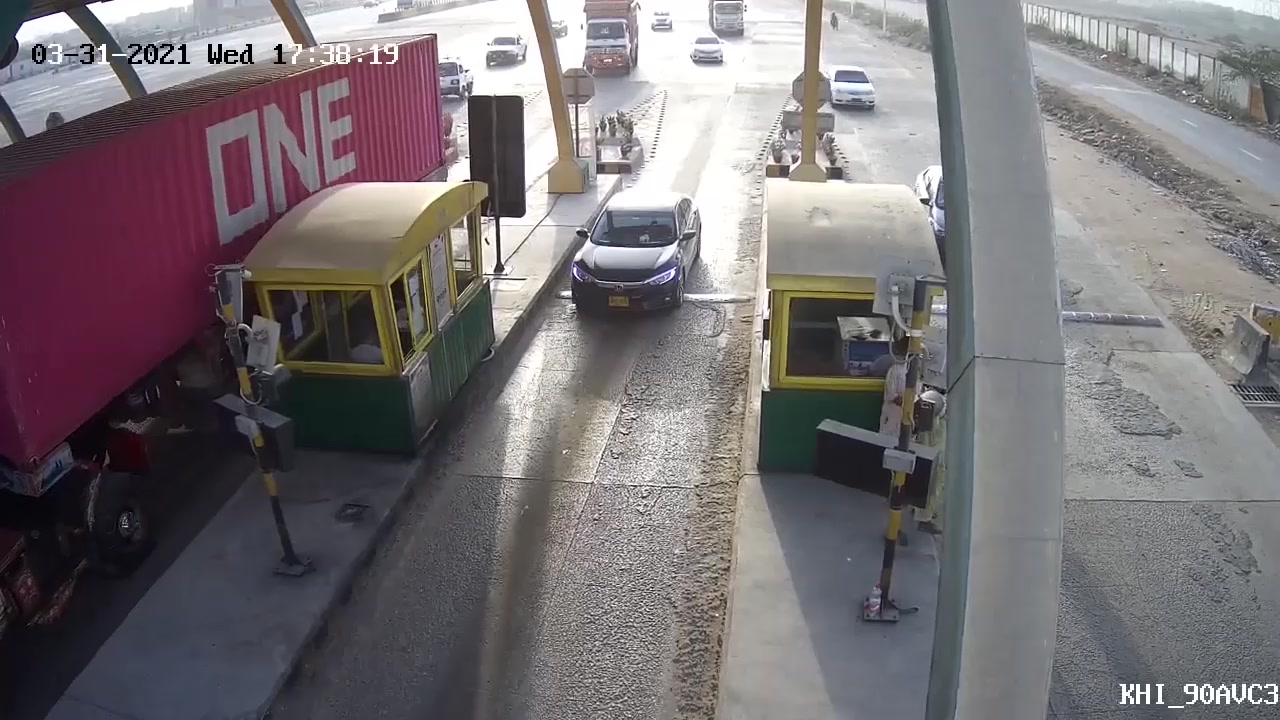F1: (568, 190, 704, 324)
